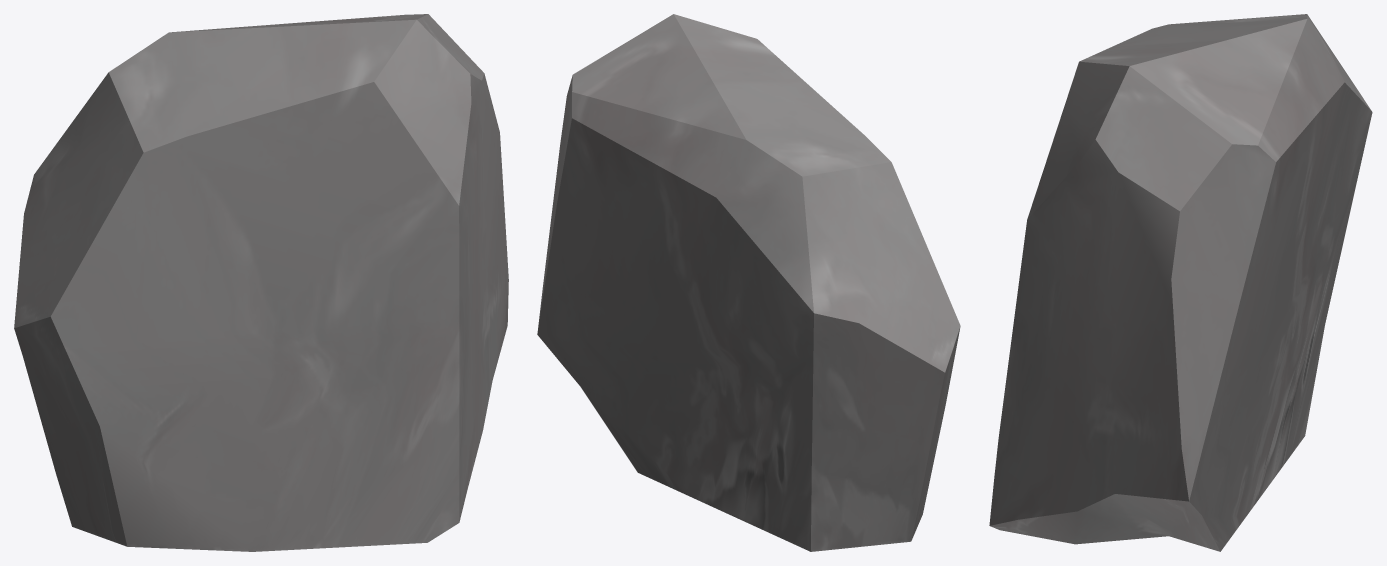
The model's file is pedra_05.fbx.
3 views of the same model, side by side, from view 1: azimuth 30°, elevation 25°; view 2: azimuth 150°, elevation 25°; view 3: azimuth 270°, elevation 25° (orthographic). The views are drawn at different scales.
Parts seen in each view (by area): view 1: Pedra.004; view 2: Pedra.004; view 3: Pedra.004.
Boxes of the visible parts, x1,y1,x2,y2 form: Pedra.004: [14, 14, 508, 551]; Pedra.004: [537, 14, 960, 551]; Pedra.004: [989, 14, 1372, 551].
Size of the model in its own units: 45.01 by 42.88 by 30.35.
